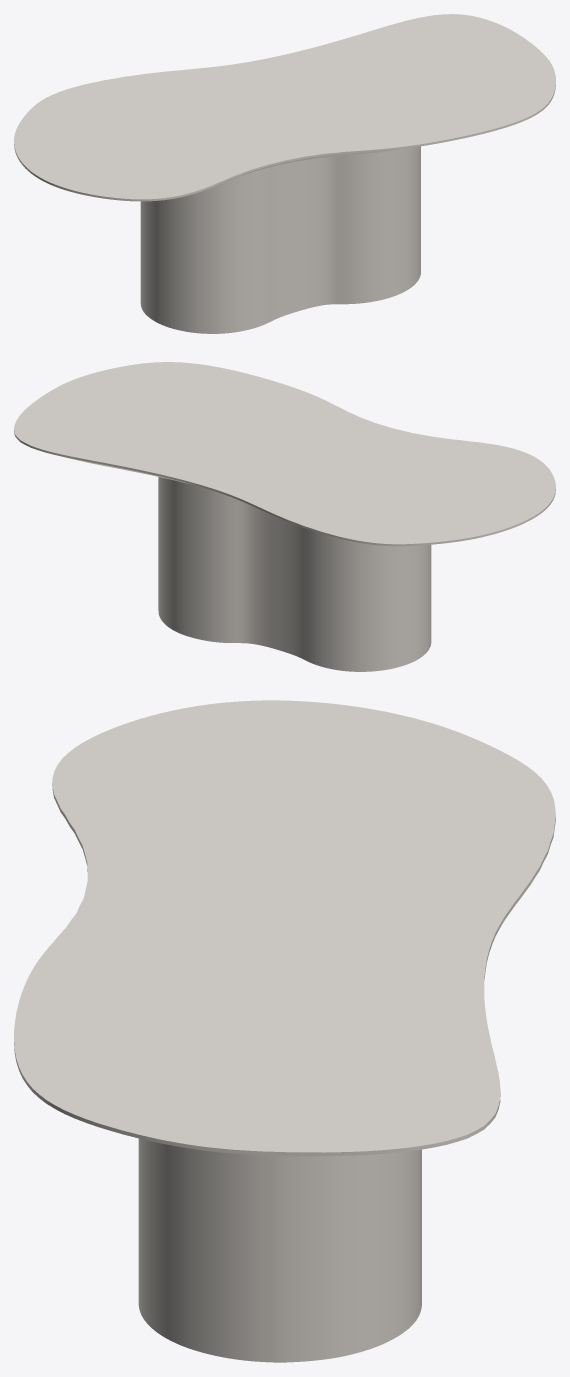
Rendered from pearlwhite_wave_facet_riverwave.glb.
3 views of the same model, one above another, from view 1: azimuth 30°, elevation 25°; view 2: azimuth 150°, elevation 25°; view 3: azimuth 270°, elevation 25° (orthographic). The views are drawn at different scales.
Visible parts, largest first — view 1: facet_wave, riverwave; view 2: facet_wave, riverwave; view 3: facet_wave, riverwave.
Part boxes in pixels (left/top/right/bottom): facet_wave: left=14, top=14, right=555, bottom=201; riverwave: left=140, top=146, right=420, bottom=333; facet_wave: left=14, top=362, right=555, bottom=546; riverwave: left=158, top=477, right=431, bottom=671; facet_wave: left=14, top=700, right=555, bottom=1156; riverwave: left=138, top=1138, right=421, bottom=1362.
Bounding box in the file's own units: 7.5 × 2.5 × 3.8.
Materials: 1 (1 with a texture image).
